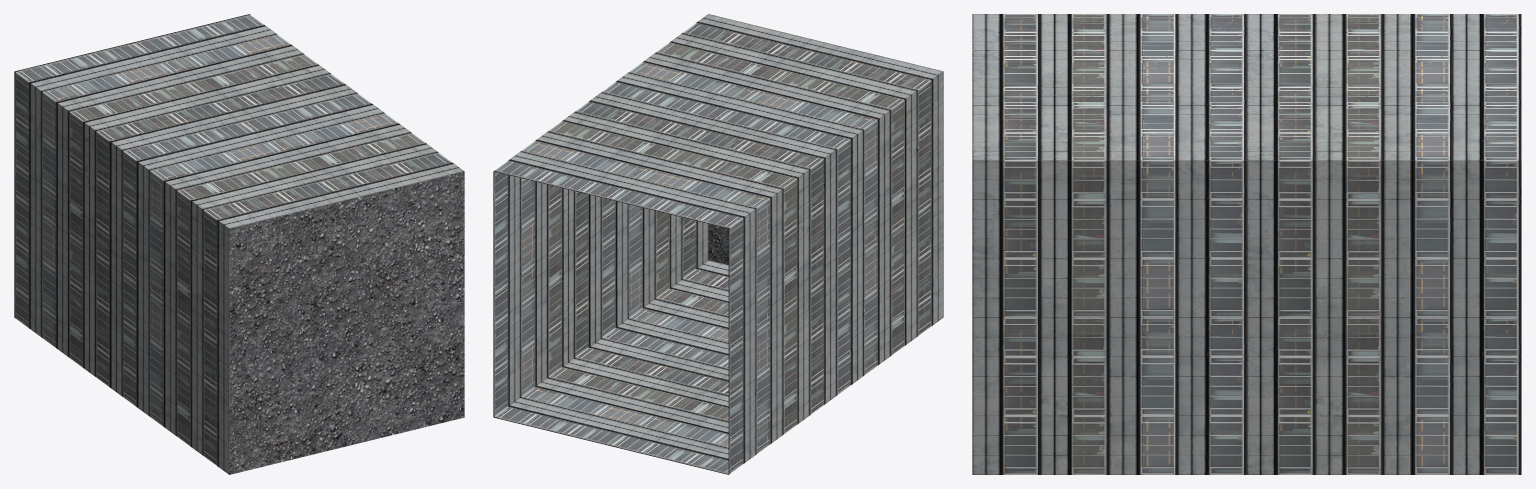
File: mp_nuketown_2020_vista_bldg_07_LOD0.obj
3 views of the same model, side by side, from view 1: azimuth 30°, elevation 25°; view 2: azimuth 150°, elevation 25°; view 3: azimuth 270°, elevation 25° (orthographic). The views are drawn at different scales.
Visible parts, largest first — view 1: mp_m_vista_bldgs_01; view 2: mp_m_vista_bldgs_01; view 3: mp_m_vista_bldgs_01.
Boxes of the visible parts, box(x1,y1,x2,y2) form: mp_m_vista_bldgs_01: box(14, 14, 464, 474); mp_m_vista_bldgs_01: box(493, 14, 943, 474); mp_m_vista_bldgs_01: box(972, 14, 1521, 474).
Bounding box in the file's own units: 1951 × 1951 × 3089.
Materials: 1 (1 with a texture image).
